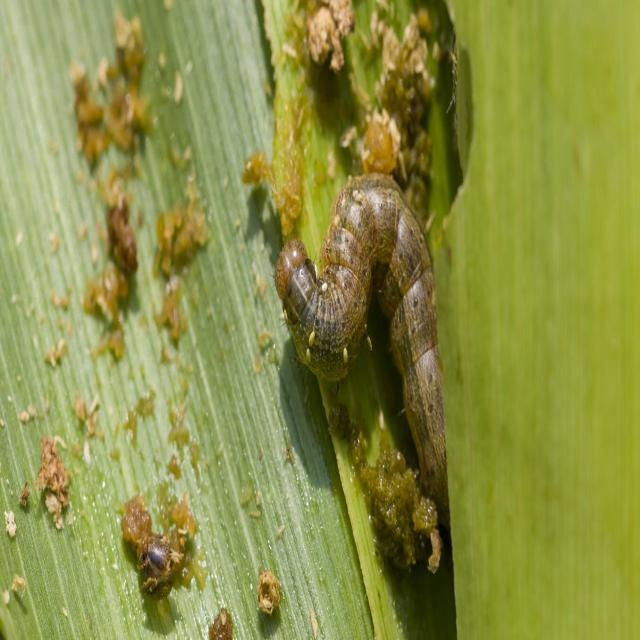armyworm: (243, 150, 479, 566)
